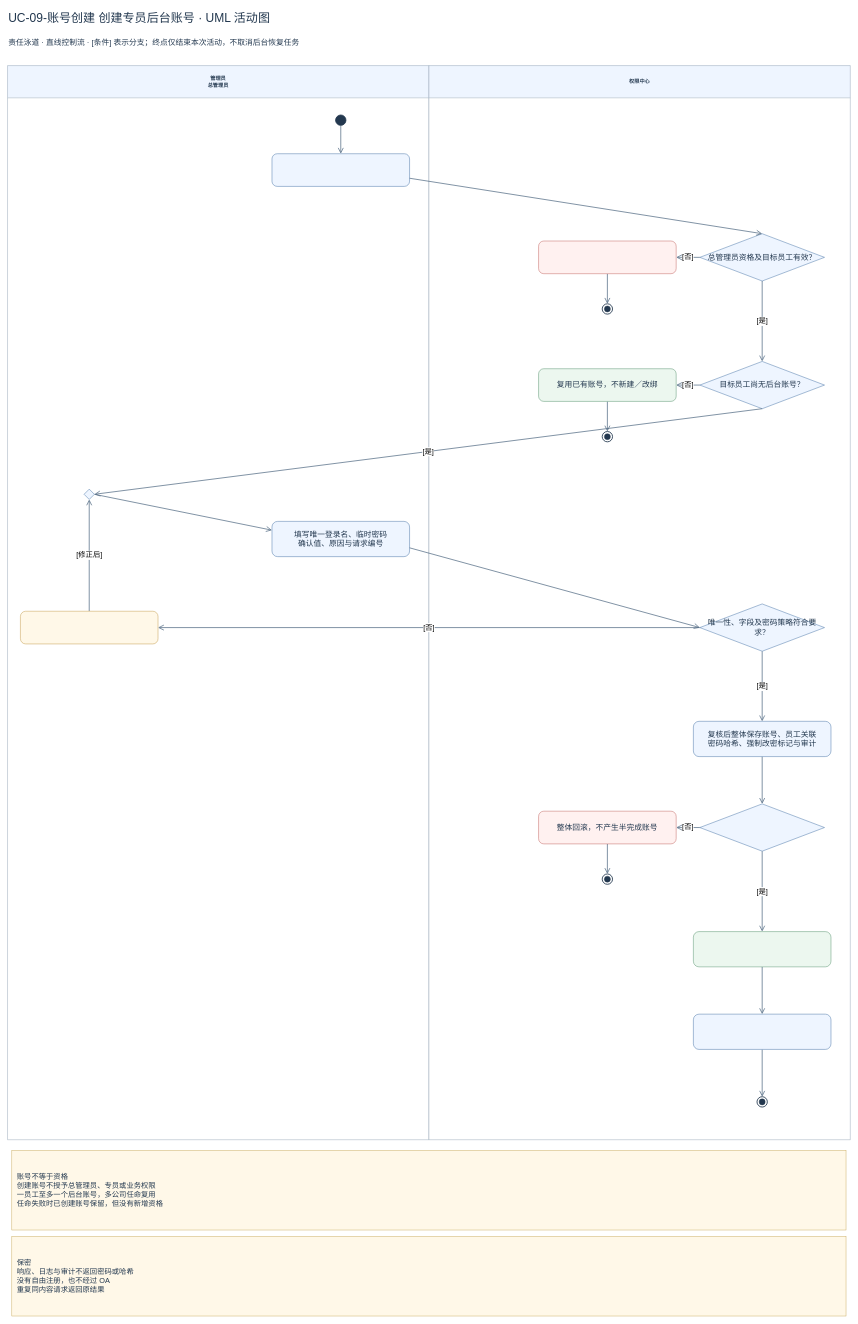
The diagram is 858 pixels wide and 1324 high, and some of its shapes have lost their labels. Here are the shapes that lost their labels. From the top down, the centre of each, then its label:
(x=341, y=169): 总管理员选择目标员工
(x=607, y=257): 拒绝创建账号
(x=89, y=627): 提示问题，不覆盖已有账号
(x=762, y=827): 全部保存成功？
(x=762, y=949): 返回账号标识及未任命提示 总管理员安全交付临时密码
(x=762, y=1031): 另按 UC-07 保存专员任命 任命有效后才能登录
